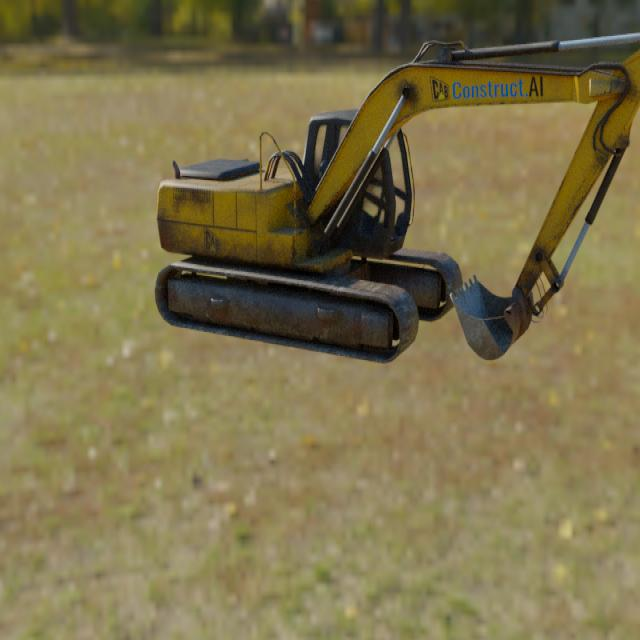excavator: (153, 32, 640, 364)
